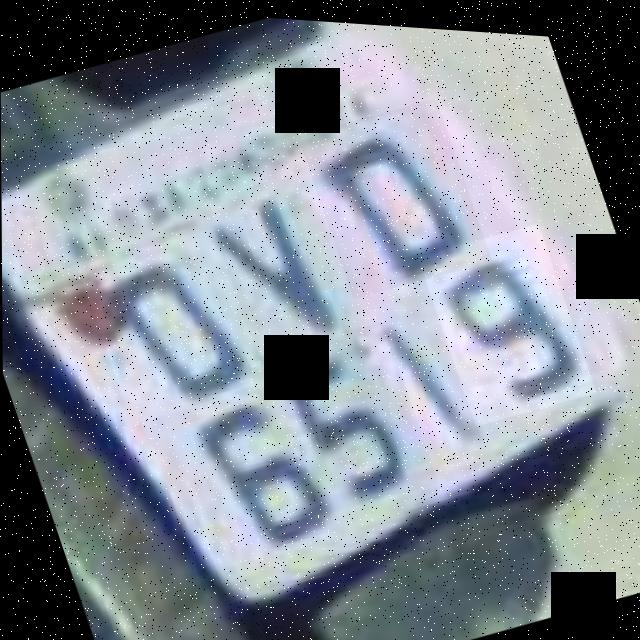1: (357, 274, 504, 472)
5: (245, 308, 438, 524)
6: (159, 358, 354, 575)
9: (417, 209, 596, 426)
O: (297, 84, 492, 301), (76, 217, 267, 429)
